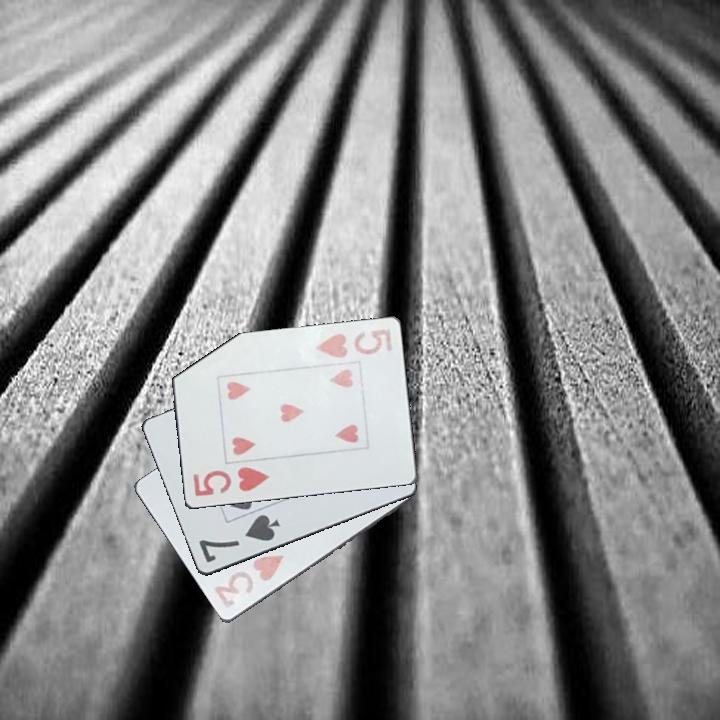3h: (210, 552, 286, 612)
5h: (310, 324, 395, 361), (189, 464, 273, 500)
7s: (195, 511, 283, 566)
